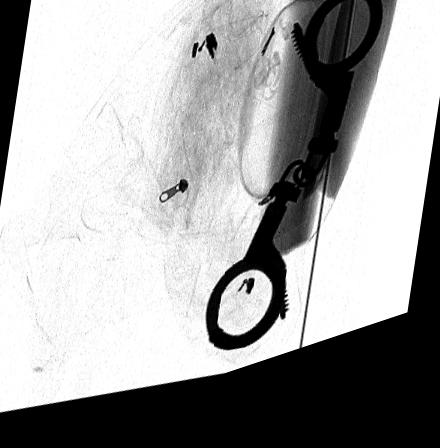HandCuffs: (204, 6, 383, 365)
